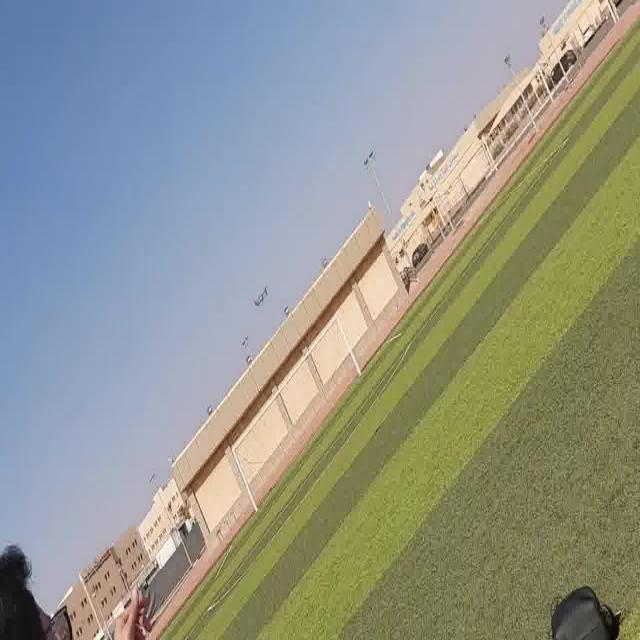drone: (250, 276, 270, 308)
